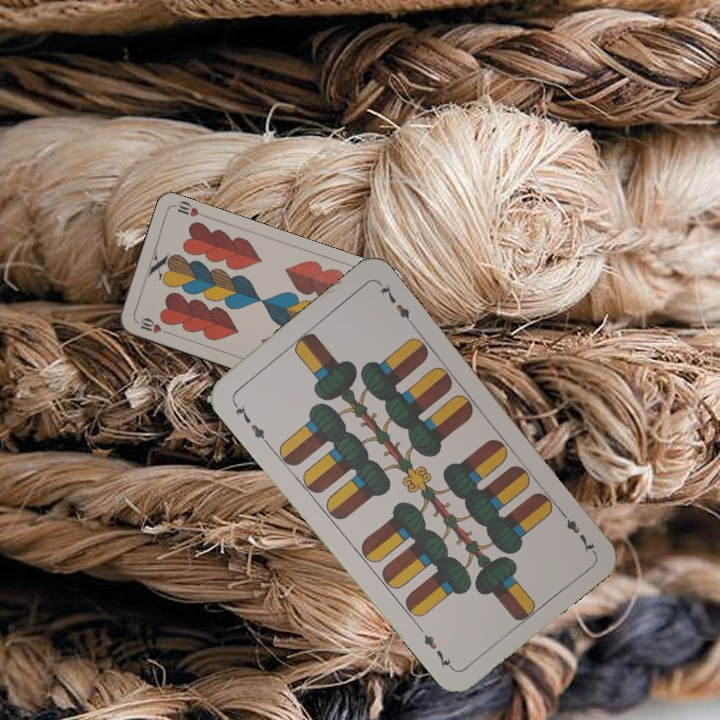E7: (228, 397, 271, 447), (555, 505, 597, 555)
H10: (132, 314, 171, 336)
